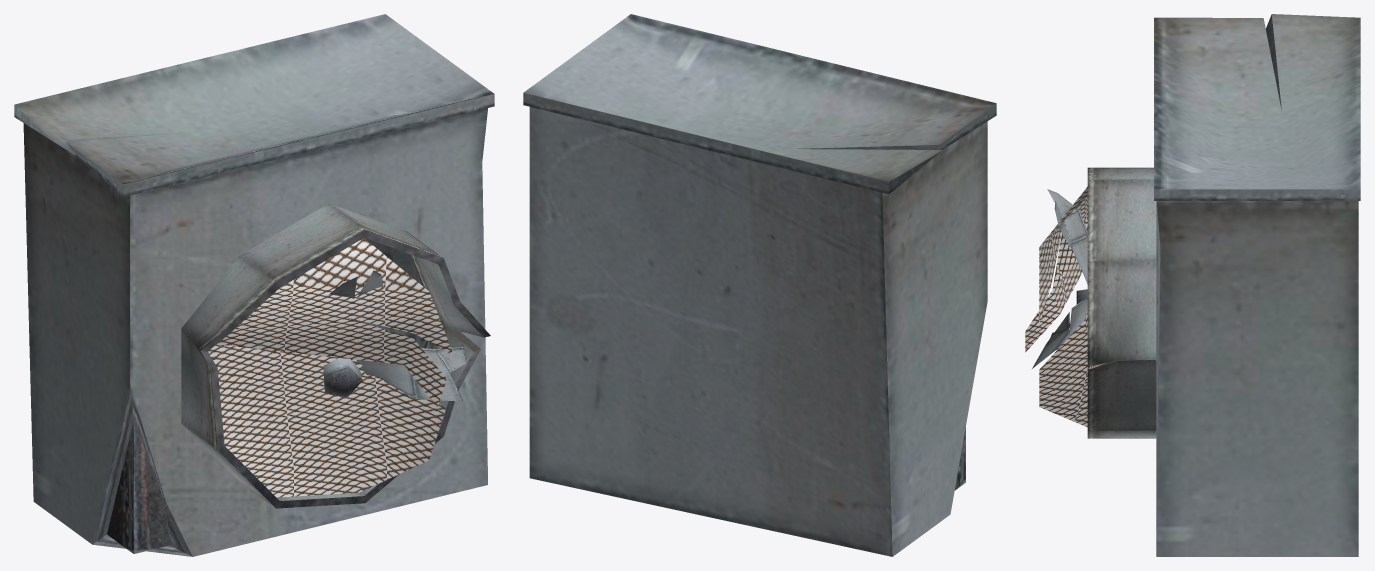
File: Air_vent4.fbx
3 renders of one model, left to right at view 1: azimuth 30°, elevation 25°; view 2: azimuth 150°, elevation 25°; view 3: azimuth 270°, elevation 25°, orthographic. The views are drawn at different scales.
Visible parts, largest first — view 1: Air_vent4; view 2: Air_vent4; view 3: Air_vent4.
Boxes of the visible parts, x1,y1,x2,y2 form: Air_vent4: [14, 14, 494, 556]; Air_vent4: [523, 14, 996, 556]; Air_vent4: [1025, 14, 1360, 556].
Bounding box in the file's own units: 193 × 190 × 156.
